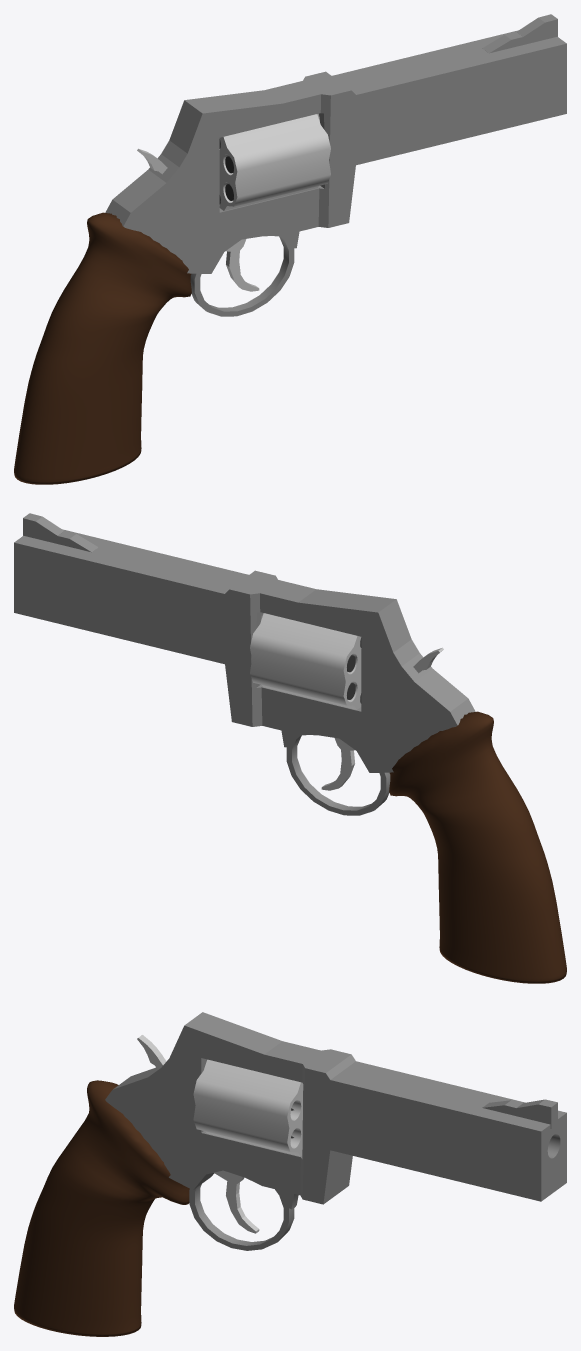
The model's file is Revolver.fbx.
3 views of the same model, one above another, from view 1: azimuth 30°, elevation 25°; view 2: azimuth 150°, elevation 25°; view 3: azimuth 330°, elevation 25° (orthographic).
Visible parts, largest first — view 1: RevolverBody_model, RevolverHandle_model, Chamber_model, Trigger_model; view 2: RevolverBody_model, RevolverHandle_model, Chamber_model, Trigger_model; view 3: RevolverBody_model, RevolverHandle_model, Chamber_model, Trigger_model, Hammer_model.
Part boxes in pixels (<box>): RevolverBody_model: <box>105,14,566,316</box>; RevolverHandle_model: <box>14,212,191,484</box>; Chamber_model: <box>219,114,330,210</box>; Trigger_model: <box>226,239,259,291</box>; RevolverBody_model: <box>14,513,475,815</box>; RevolverHandle_model: <box>389,711,566,983</box>; Chamber_model: <box>250,613,361,709</box>; Trigger_model: <box>321,738,354,790</box>; RevolverBody_model: <box>105,1012,566,1250</box>; RevolverHandle_model: <box>14,1080,189,1336</box>; Chamber_model: <box>193,1059,303,1156</box>; Trigger_model: <box>214,1170,259,1233</box>; Hammer_model: <box>137,1035,166,1069</box>.
Size of the model in its own units: 6.82 by 4.04 by 0.9639.
